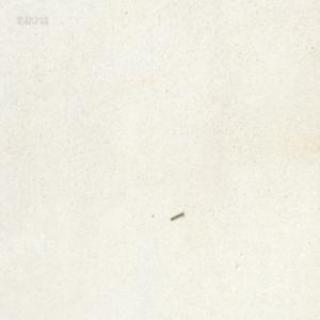Bolttrack_idkeyframe: (168, 211, 183, 221)
